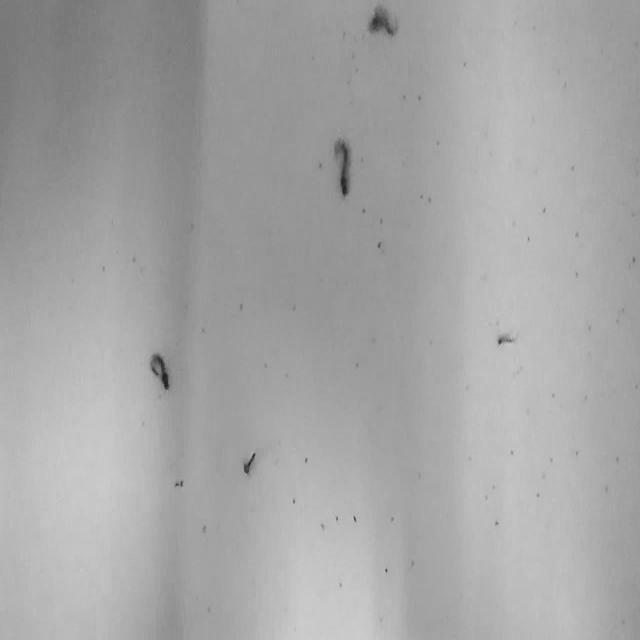larvas: (367, 3, 399, 36), (334, 136, 351, 197), (148, 351, 170, 389), (242, 451, 256, 474), (498, 332, 518, 344)
